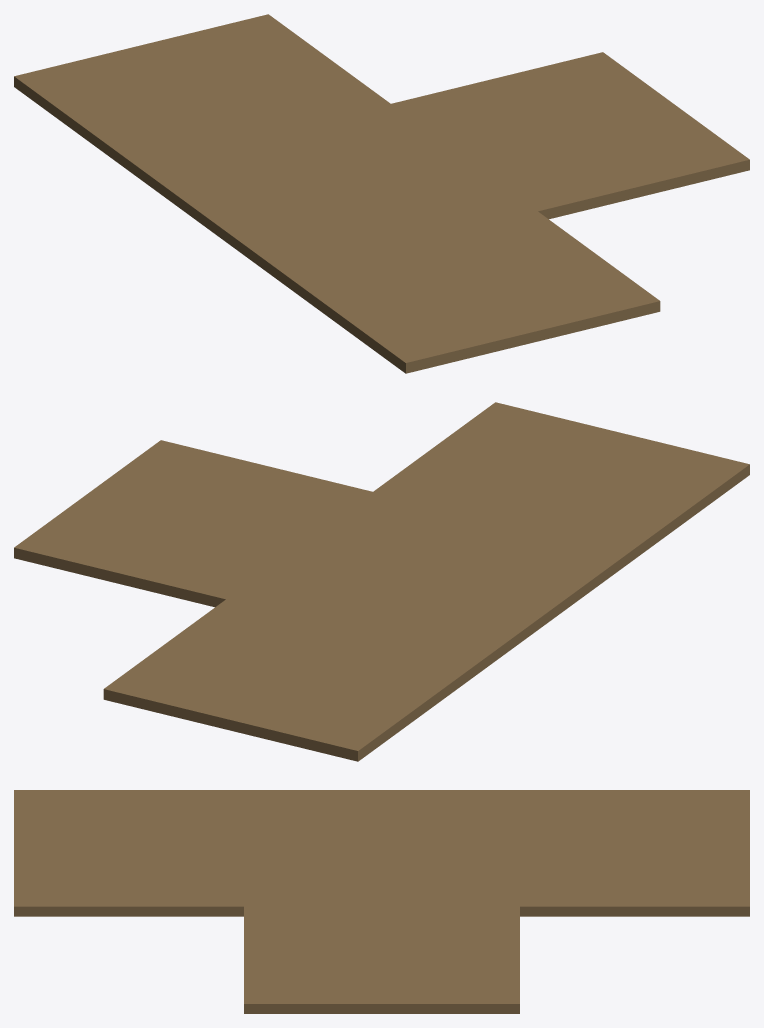
File: road_dirt_tee.glb
3 renders of one model, top to bottom at view 1: azimuth 30°, elevation 25°; view 2: azimuth 150°, elevation 25°; view 3: azimuth 270°, elevation 25°, orthographic. The views are drawn at different scales.
Parts seen in each view (by area): view 1: body; view 2: body; view 3: body.
Boxes of the visible parts, left/top/right/bottom form: body: left=14, top=14, right=749, bottom=373; body: left=14, top=402, right=749, bottom=761; body: left=14, top=790, right=749, bottom=1013.
Size of what is drawn, in the model's own units: 5.5 by 0.12 by 8.
